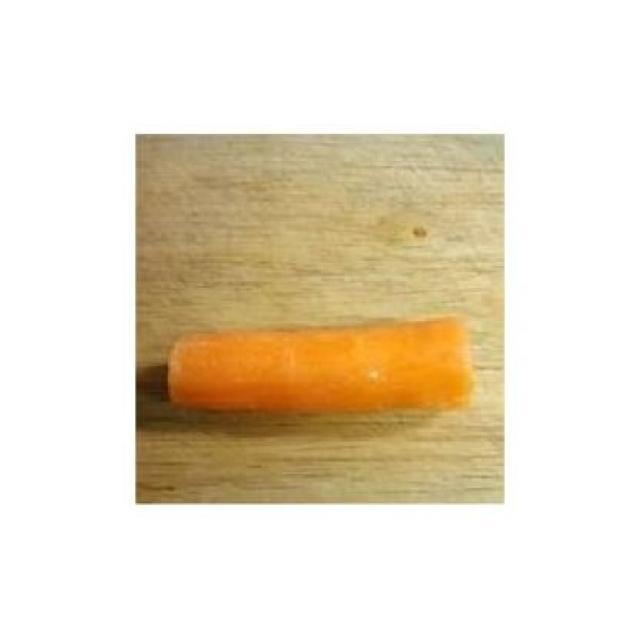carrot: (153, 296, 494, 449)
